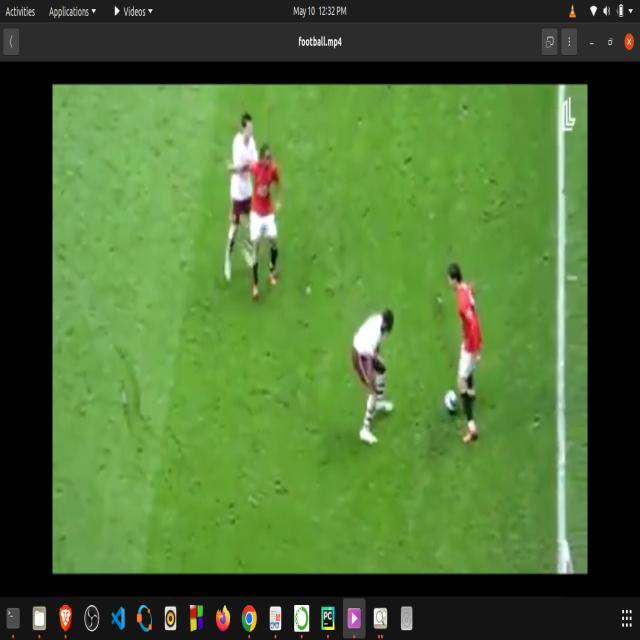Ball: (440, 385, 464, 421)
football-players: (441, 252, 492, 471), (215, 109, 262, 302), (348, 296, 400, 459), (241, 139, 288, 311)
